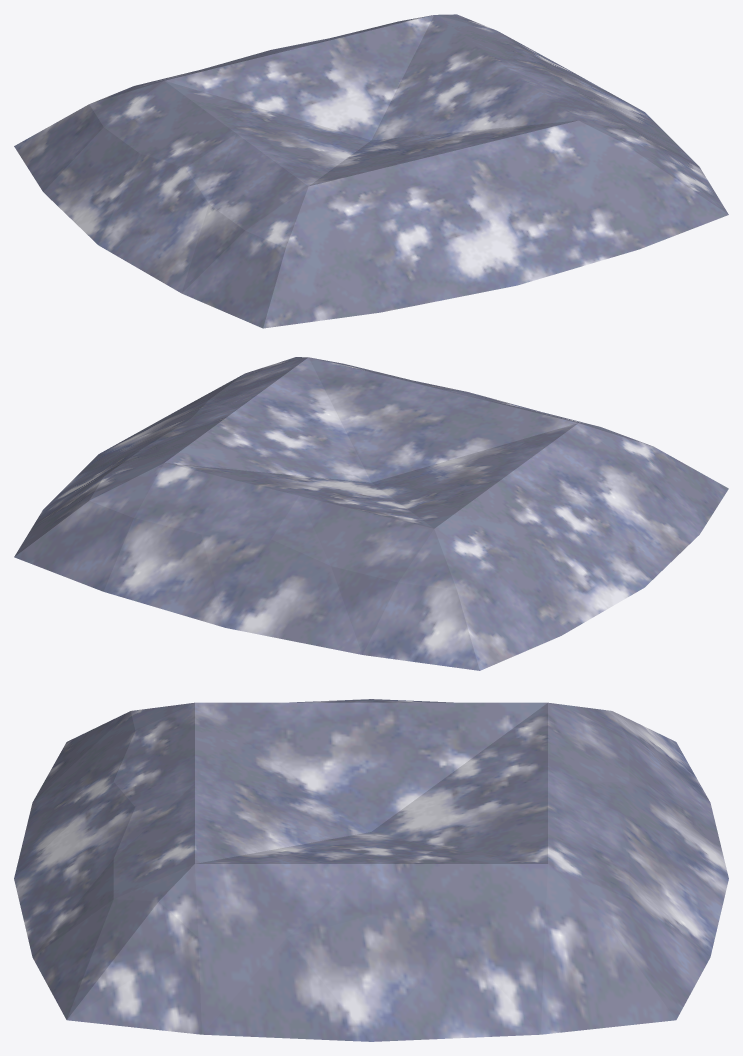
Rendered from recovered_map_mp82.glb.
The picture shows the model from 3 angles, top to bottom: view 1: azimuth 30°, elevation 25°; view 2: azimuth 150°, elevation 25°; view 3: azimuth 270°, elevation 25°; orthographic projection. The views are drawn at different scales.
Visible parts, largest first — view 1: S_mp82_skycap; view 2: S_mp82_skycap; view 3: S_mp82_skycap.
Boxes of the visible parts, x1,y1,x2,y2 form: S_mp82_skycap: [14, 14, 728, 328]; S_mp82_skycap: [14, 357, 728, 670]; S_mp82_skycap: [14, 699, 728, 1041].
Size of what is drawn, in the model's own units: 920 by 253 by 852.
Materials: 44 (44 with a texture image).
